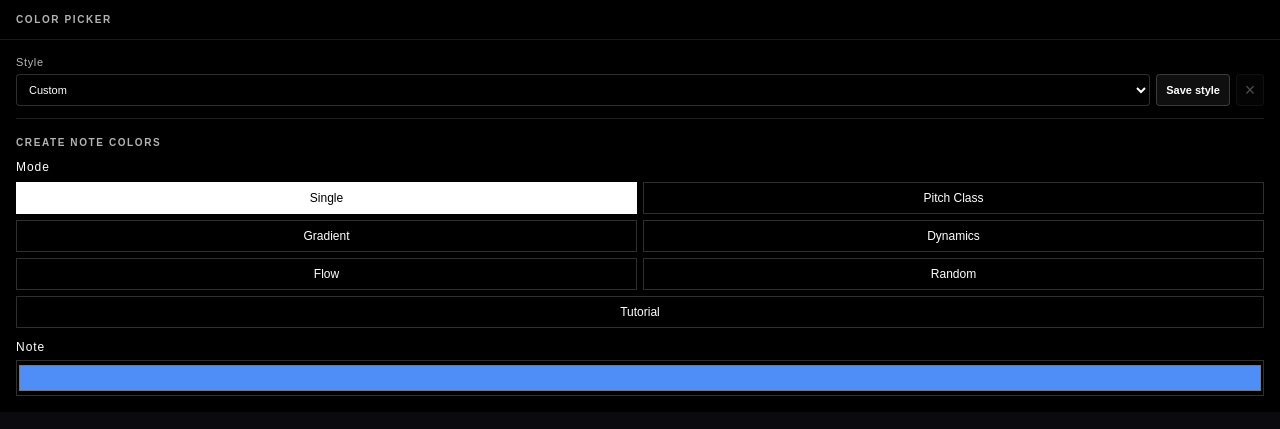
Test: CreateColorPanel › shows a low-red to high-violet preview for Gradient mode
Click the button "Gradient": click(326, 236) [16, 220, 637, 252]
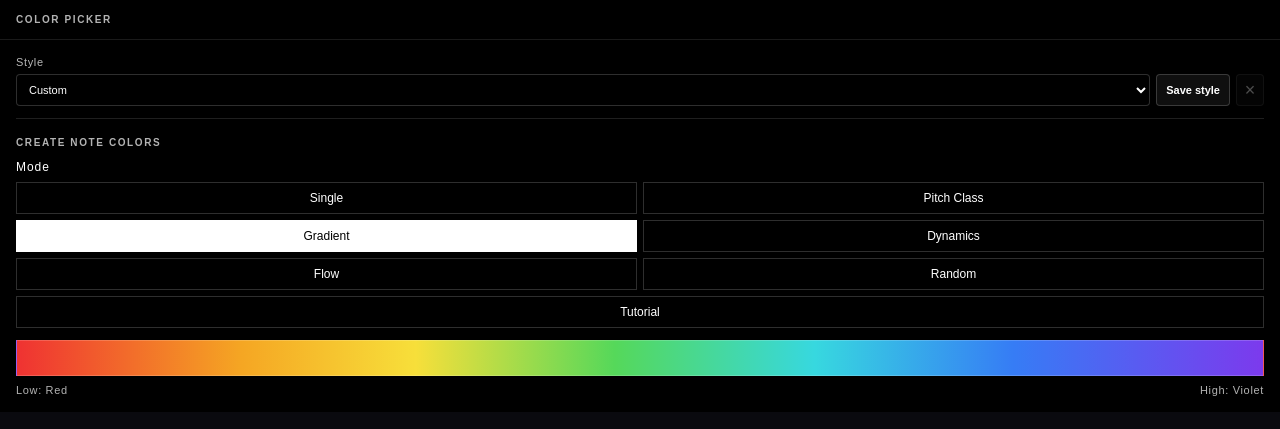
expect the element named "Low red to high violet rainbow gradient" is shown: met, box [16, 340, 1264, 396]
expect the colour field labelled "C pitch class color" is gone: met
